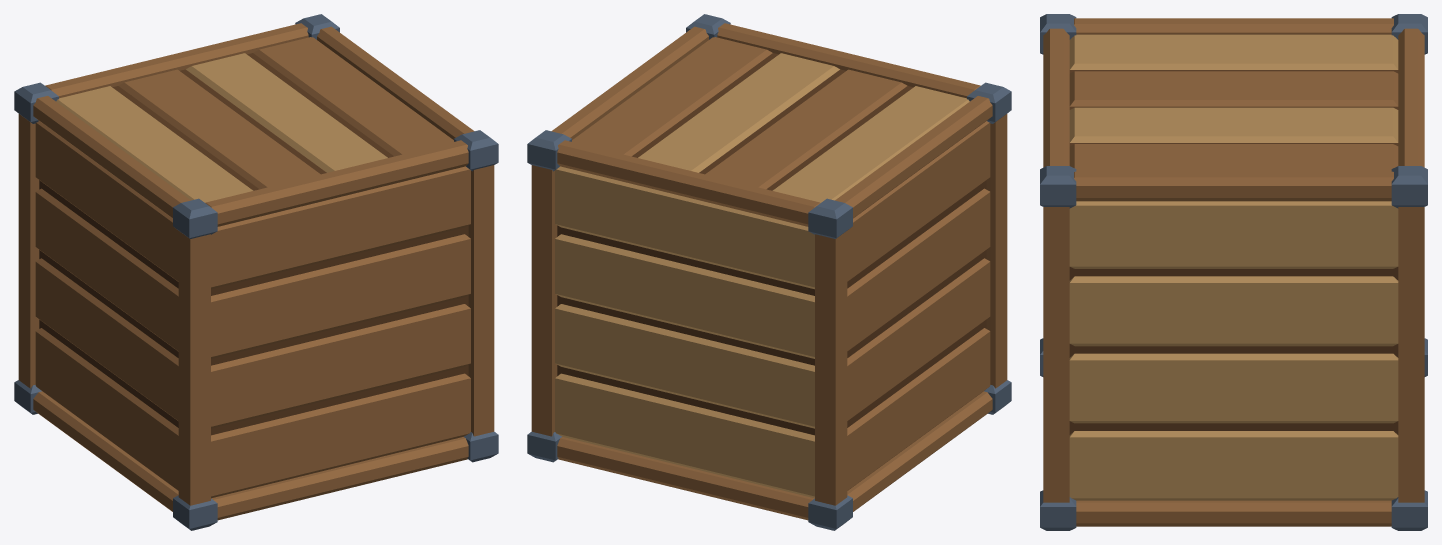
The model's file is Crate_12.glb.
The picture shows the model from 3 angles, left to right: view 1: azimuth 30°, elevation 25°; view 2: azimuth 150°, elevation 25°; view 3: azimuth 270°, elevation 25°; orthographic projection. The views are drawn at different scales.
Visible parts, largest first — view 1: Crate_12; view 2: Crate_12; view 3: Crate_12.
Boxes of the visible parts, x1,y1,x2,y2 form: Crate_12: [14, 14, 498, 530]; Crate_12: [527, 14, 1011, 530]; Crate_12: [1040, 14, 1427, 530].
Size of the model in its own units: 2.41 by 2.38 by 2.36.
